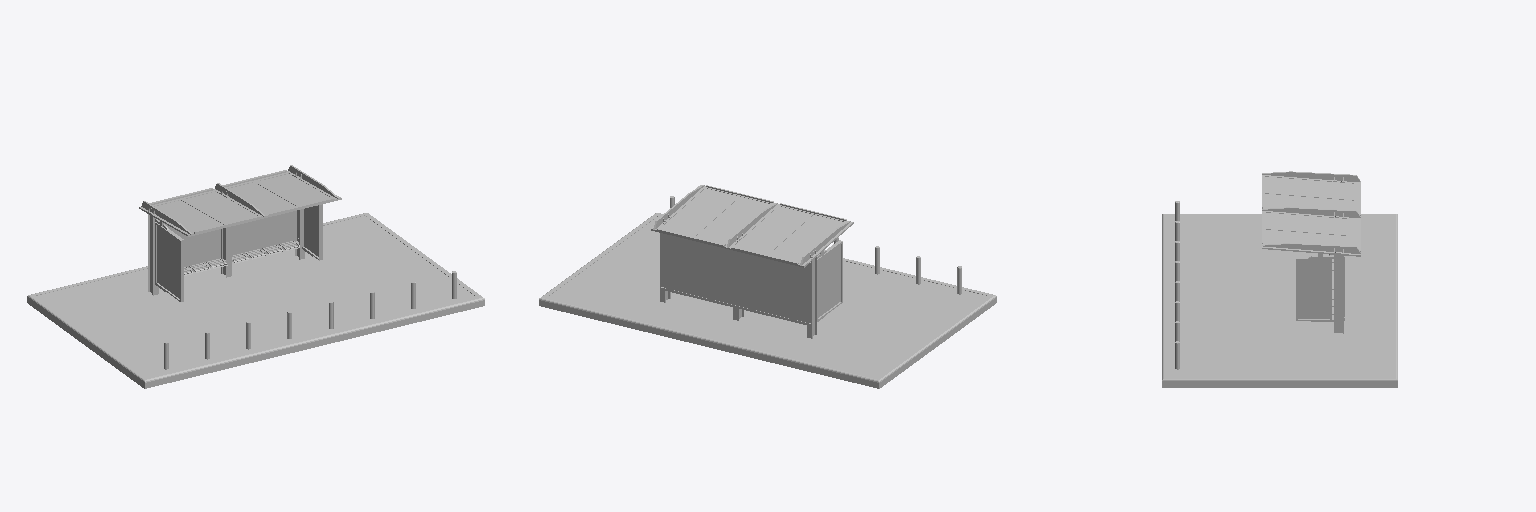
File: bus_stop.obj
3 renders of one model, left to right at view 1: azimuth 30°, elevation 25°; view 2: azimuth 150°, elevation 25°; view 3: azimuth 270°, elevation 25°, orthographic.
Parts seen in each view (by area): view 1: bus_stop_Куб.007; view 2: bus_stop_Куб.007; view 3: bus_stop_Куб.007.
Boxes of the visible parts, x1,y1,x2,y2 form: bus_stop_Куб.007: [27, 165, 484, 388]; bus_stop_Куб.007: [539, 185, 996, 388]; bus_stop_Куб.007: [1162, 171, 1397, 387].
Size of the model in its own units: 11.61 by 3.15 by 6.95.